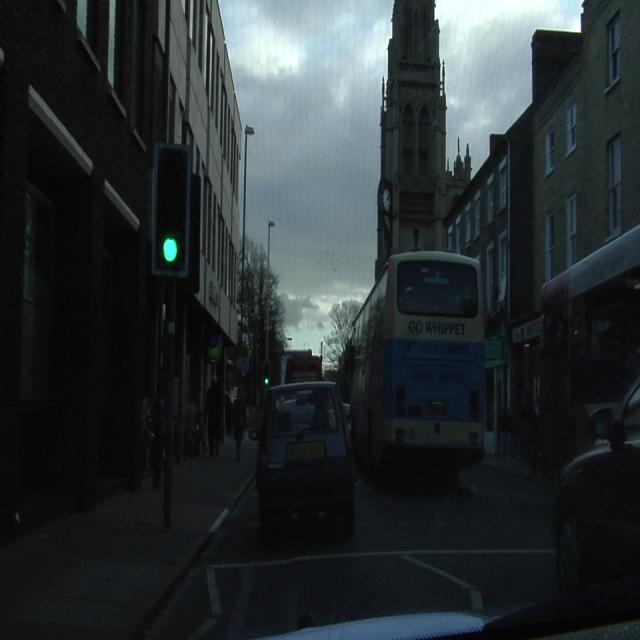Building: (2, 0, 245, 537), (376, 0, 640, 470)
Car: (555, 380, 639, 588), (256, 383, 355, 540)
Road: (143, 463, 558, 636)
Tree: (244, 238, 268, 404), (325, 300, 361, 402), (270, 270, 286, 382)
Truck_Bus: (353, 251, 484, 465)
person: (205, 373, 223, 454)
